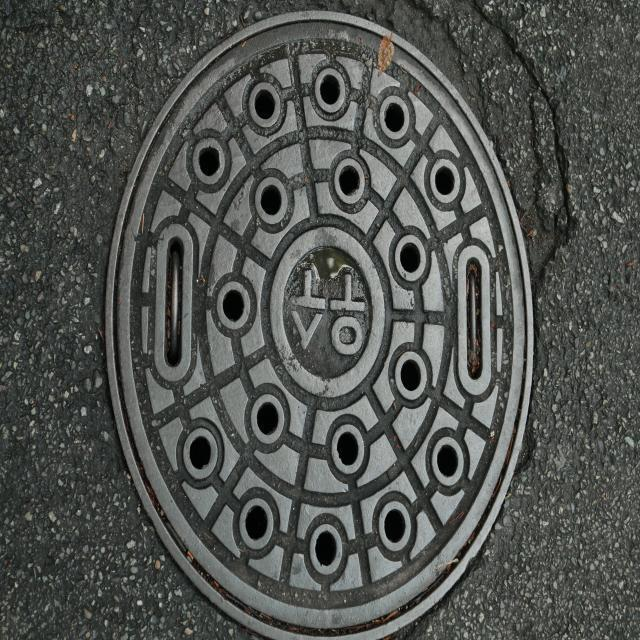manhole: (106, 12, 532, 640)
